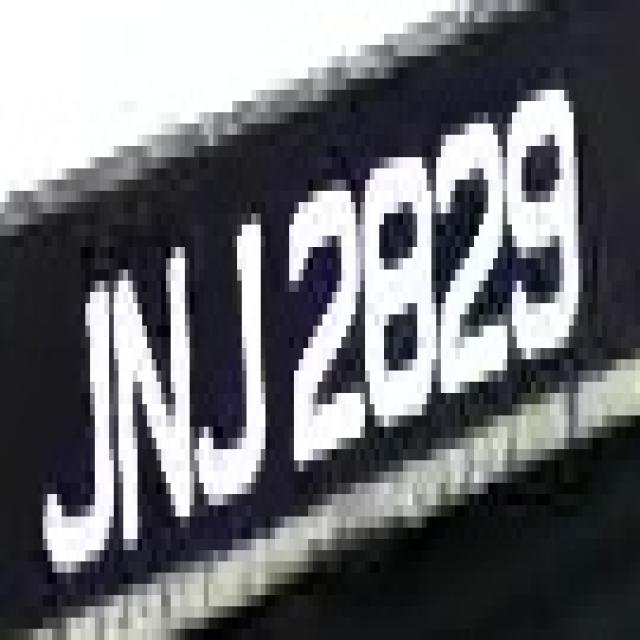2: (275, 146, 360, 505), (427, 67, 507, 438)
8: (346, 135, 446, 460)
9: (512, 56, 583, 371)
J: (23, 236, 118, 584), (190, 214, 275, 506)
N: (119, 214, 199, 550)
